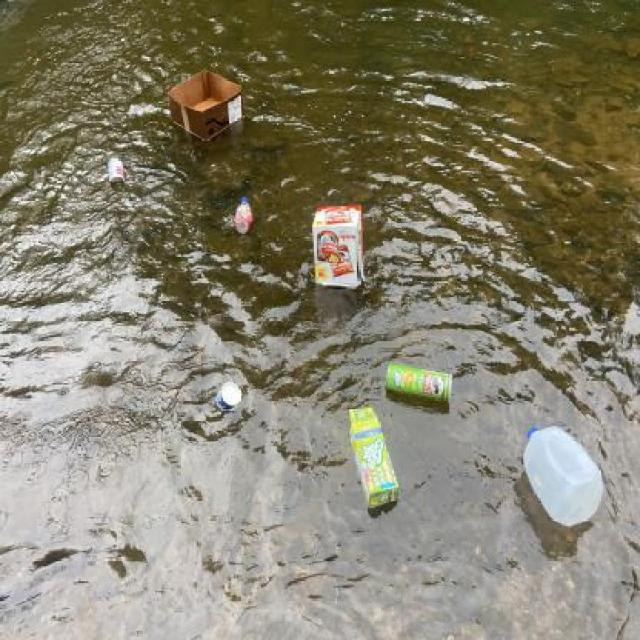Can-Metal: (382, 360, 458, 408), (104, 151, 128, 189)
Cardboard: (161, 65, 256, 150), (308, 193, 375, 298), (346, 400, 403, 522)
Paper: (208, 372, 246, 419)
Plastic: (516, 418, 606, 532), (227, 192, 258, 238)
